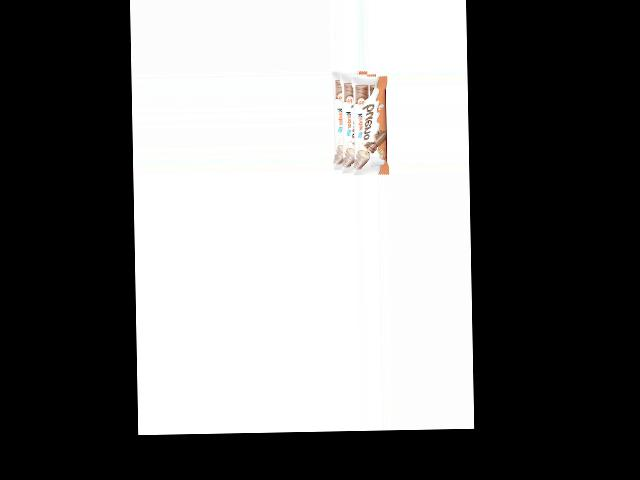chocolate: (331, 71, 390, 173)
